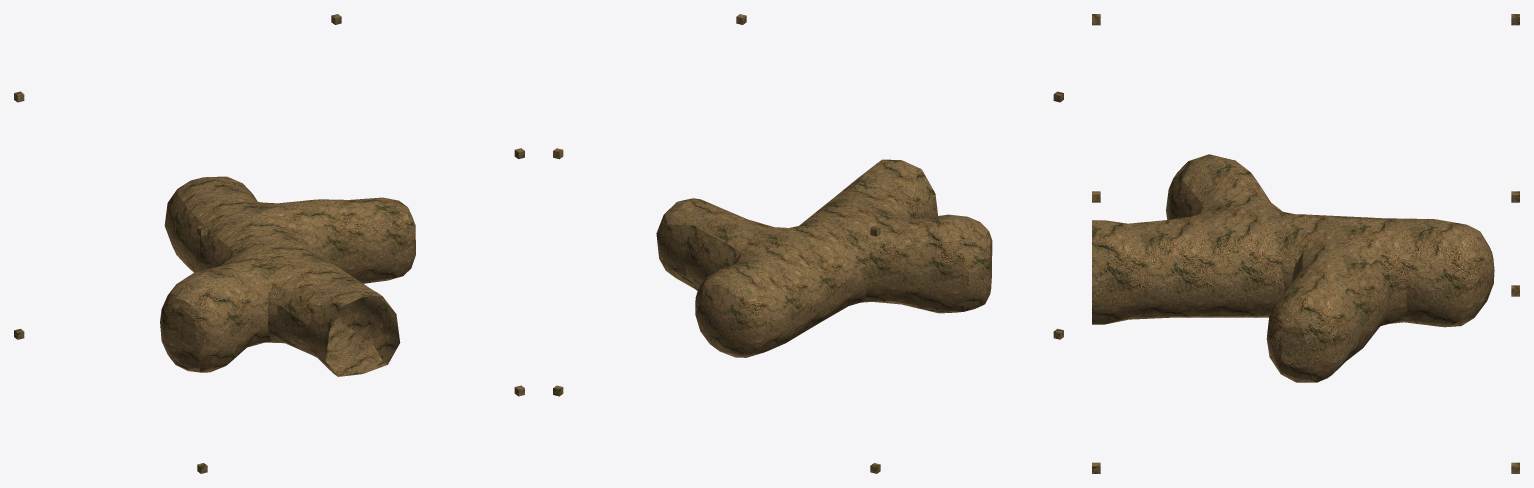
The model's file is lba_1f.glb.
3 renders of one model, left to right at view 1: azimuth 30°, elevation 25°; view 2: azimuth 150°, elevation 25°; view 3: azimuth 270°, elevation 25°, orthographic. The views are drawn at different scales.
Parts seen in each view (by area): view 1: lba_1f; view 2: lba_1f; view 3: lba_1f.
Part boxes in pixels (x1,y1,x2,y2): lba_1f: (14, 14, 524, 473); lba_1f: (553, 14, 1063, 473); lba_1f: (1092, 14, 1519, 473).
Size of the model in its own units: 15 by 10.8 by 15.
Materials: 1 (1 with a texture image).
